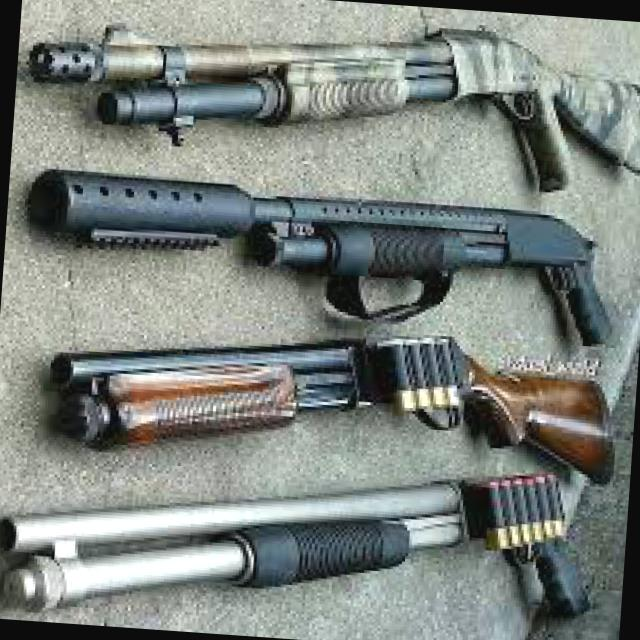long weapon: (11, 146, 639, 368), (25, 316, 632, 512), (10, 0, 640, 179), (0, 475, 615, 615)
